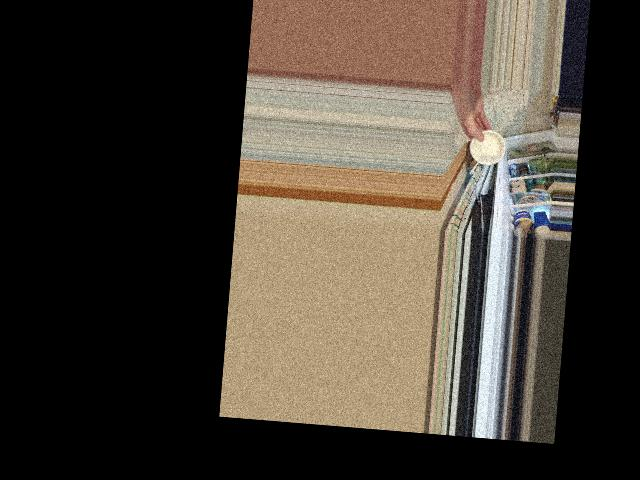cotage: (466, 126, 501, 164)
